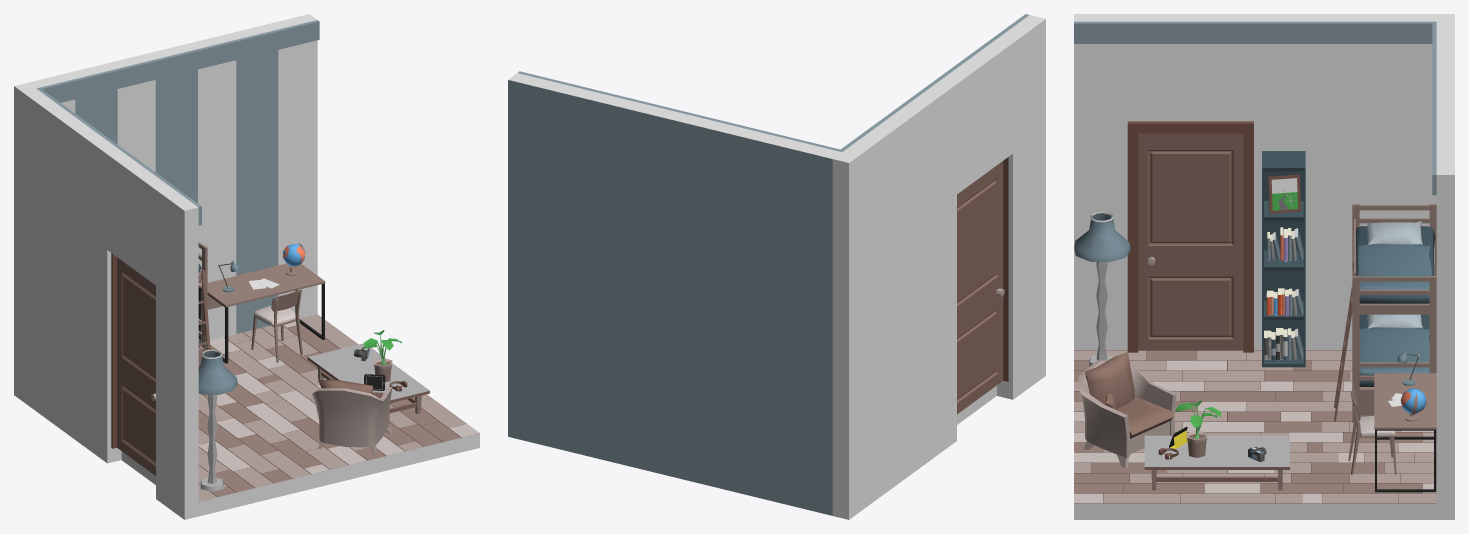
File: room_8.glb
3 renders of one model, left to right at view 1: azimuth 30°, elevation 25°; view 2: azimuth 150°, elevation 25°; view 3: azimuth 270°, elevation 25°, orthographic. The views are drawn at different scales.
Parts seen in each view (by area): view 1: Walls_006.024, floor_018.001, wall_016.001, Walls_116.012, Walls_006.023, door_009.001, Walls_056.003, Walls_111.001, Walls_006.025, armchair_017.001, office_table_017.006, coffee_table_019.001 (+6 smaller); view 2: Walls_116.012, Walls_006.024, Walls_006.023, door_009.001, Walls_006.025, door_010.001, Walls_111.001, Walls_111.002; view 3: Walls_006.024, floor_018.001, door_009.001, Walls_006.023, bed_023.001, Walls_056.003, Walls_116.012, Walls_006.025, Walls_111.002, armchair_017.001, door_010.001, shelf_057.001 (+11 smaller).
Boxes of the visible parts, box(x1,y1,x2,y2) form: Walls_006.024: box(14, 82, 121, 463); floor_018.001: box(198, 314, 479, 501); wall_016.001: box(61, 40, 317, 341); Walls_116.012: box(28, 14, 316, 333); Walls_006.023: box(156, 187, 198, 519); door_009.001: box(117, 257, 155, 475); Walls_056.003: box(121, 319, 479, 516); Walls_111.001: box(36, 20, 319, 102); Walls_006.025: box(107, 151, 169, 285); armchair_017.001: box(312, 379, 392, 454); office_table_017.006: box(198, 263, 325, 363); coffee_table_019.001: box(307, 343, 429, 414); Walls_116.012: box(508, 73, 841, 515); Walls_006.024: box(832, 80, 956, 519); Walls_006.023: box(997, 15, 1045, 399); door_009.001: box(957, 161, 1004, 414); Walls_006.025: box(941, 39, 1012, 194); door_010.001: box(1003, 157, 1008, 381); Walls_111.001: box(518, 71, 843, 151); Walls_111.002: box(841, 14, 1028, 150); Walls_006.024: box(1246, 14, 1454, 350); floor_018.001: box(1074, 350, 1436, 503); door_009.001: box(1138, 133, 1243, 350); Walls_006.023: box(1074, 14, 1137, 350); bed_023.001: box(1334, 204, 1436, 422); Walls_056.003: box(1074, 350, 1436, 519); Walls_116.012: box(1436, 21, 1454, 519); Walls_006.025: box(1137, 14, 1246, 121); Walls_111.002: box(1074, 21, 1432, 43); armchair_017.001: box(1077, 352, 1176, 468); door_010.001: box(1127, 121, 1253, 352); shelf_057.001: box(1262, 151, 1305, 367).
Size of the model in its own units: 4.2 by 4.2 by 4.2.
Materials: 1 (1 with a texture image).
